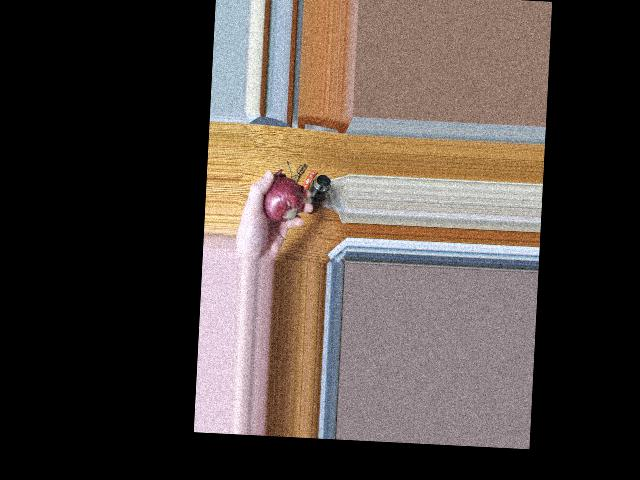onion: (267, 177, 302, 213)
